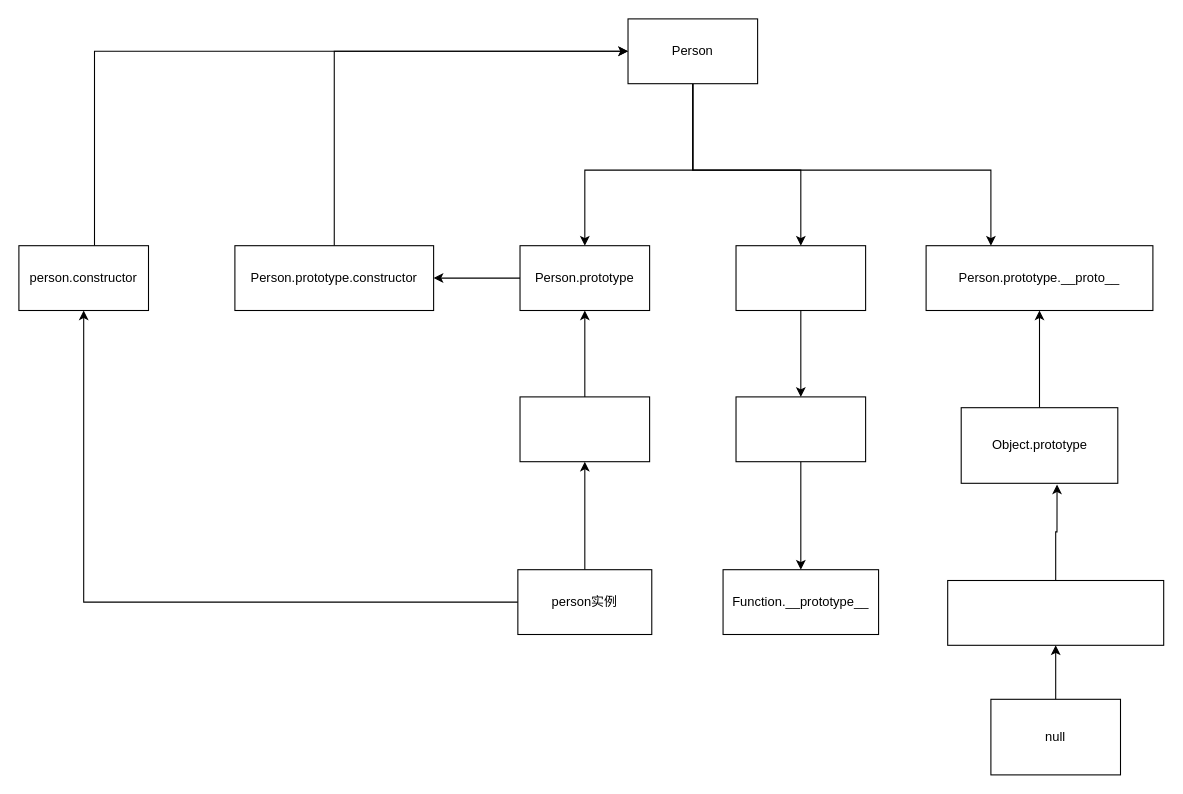
The diagram is 1183 pixels wide and 794 high, and some of its shapes have lost their labels. Each missing label, with the box of its shape:
Function.prototype: (735, 396, 866, 462)
Object.prototype.__proto__: (947, 579, 1164, 645)
person,__proto__: (519, 396, 650, 462)
Person.__proto__: (735, 245, 866, 310)
